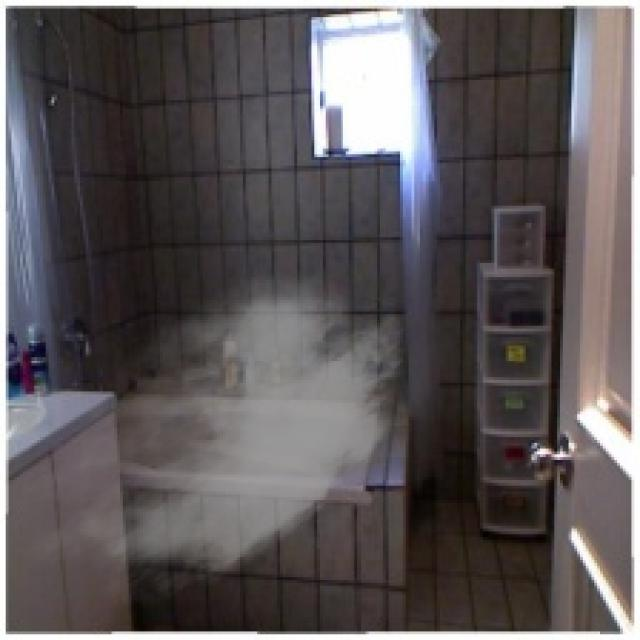smoke: (23, 257, 417, 614)
